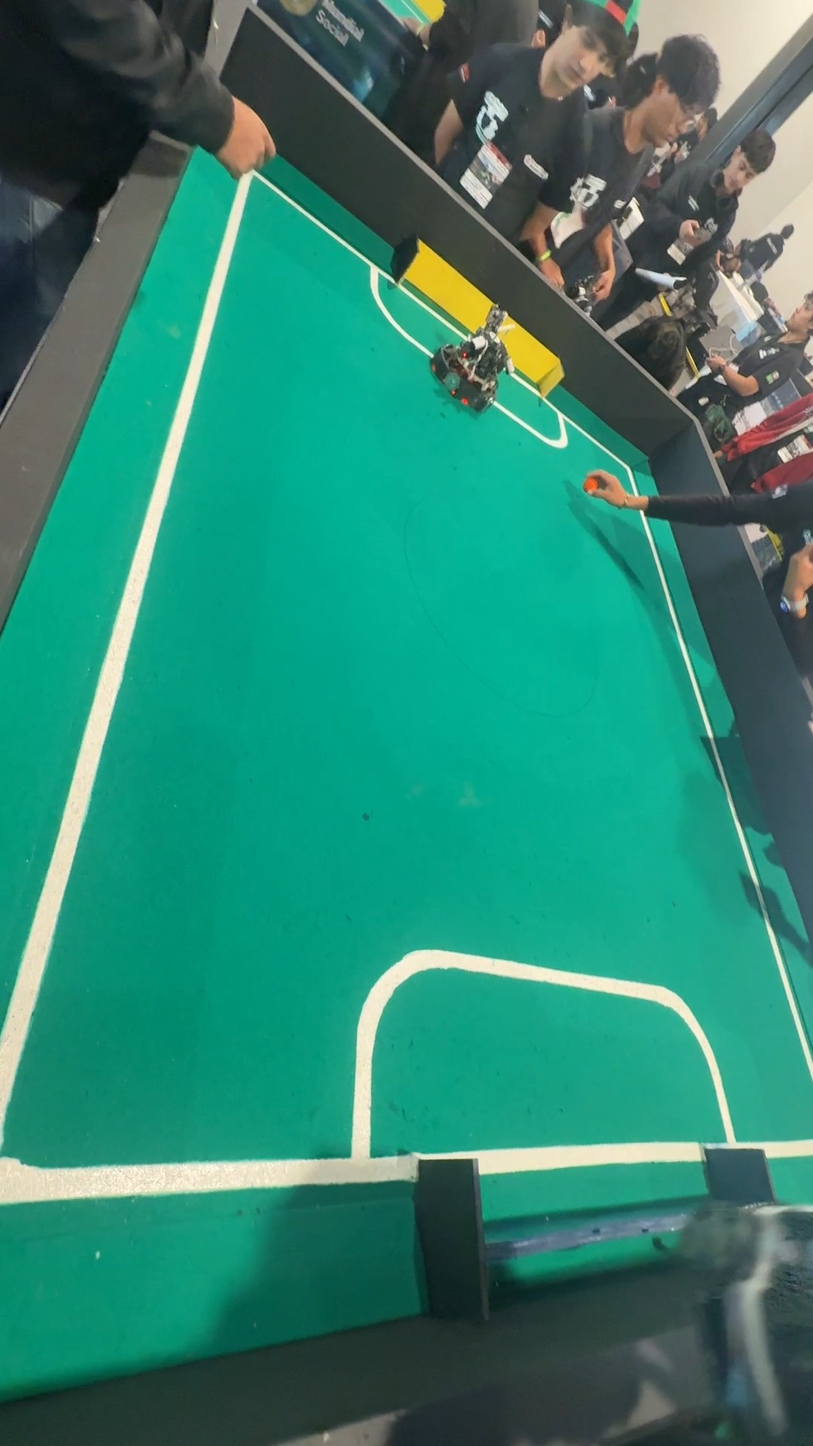Robot: (421, 298, 515, 425)
